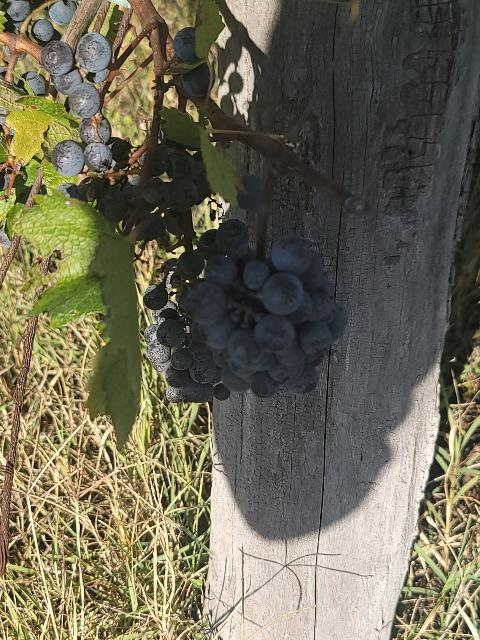grapes: (145, 219, 348, 402), (96, 146, 212, 241), (41, 32, 112, 172)
